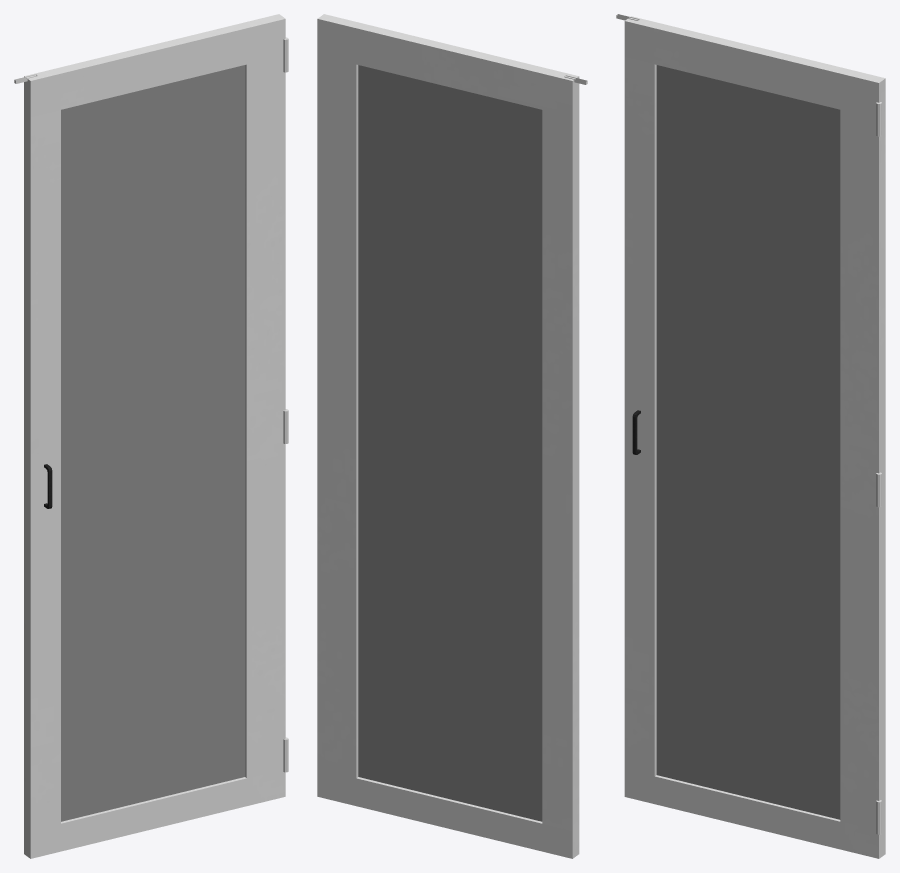
Rendered from SM_柜子门02.fbx.
The picture shows the model from 3 angles, left to right: view 1: azimuth 30°, elevation 25°; view 2: azimuth 150°, elevation 25°; view 3: azimuth 330°, elevation 25°; orthographic projection.
Visible parts, largest first — view 1: SM_柜子门02; view 2: SM_柜子门02; view 3: SM_柜子门02.
Part boxes in pixels (x1=…): SM_柜子门02: x1=14, y1=14, x2=288, y2=858; SM_柜子门02: x1=317, y1=14, x2=587, y2=858; SM_柜子门02: x1=616, y1=14, x2=885, y2=858.
Bounding box in the file's own units: 0.6071 × 1.68 × 0.046.
